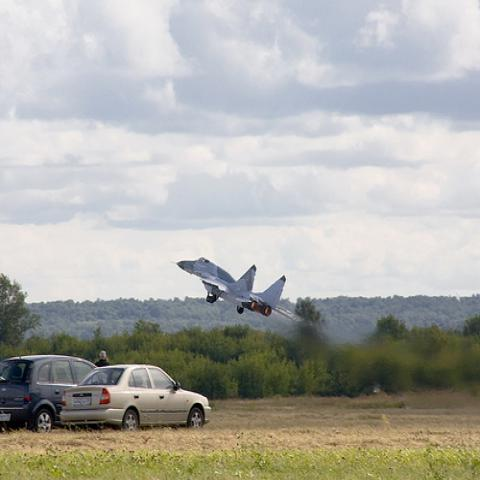car: (58, 363, 211, 430), (0, 354, 96, 433)
